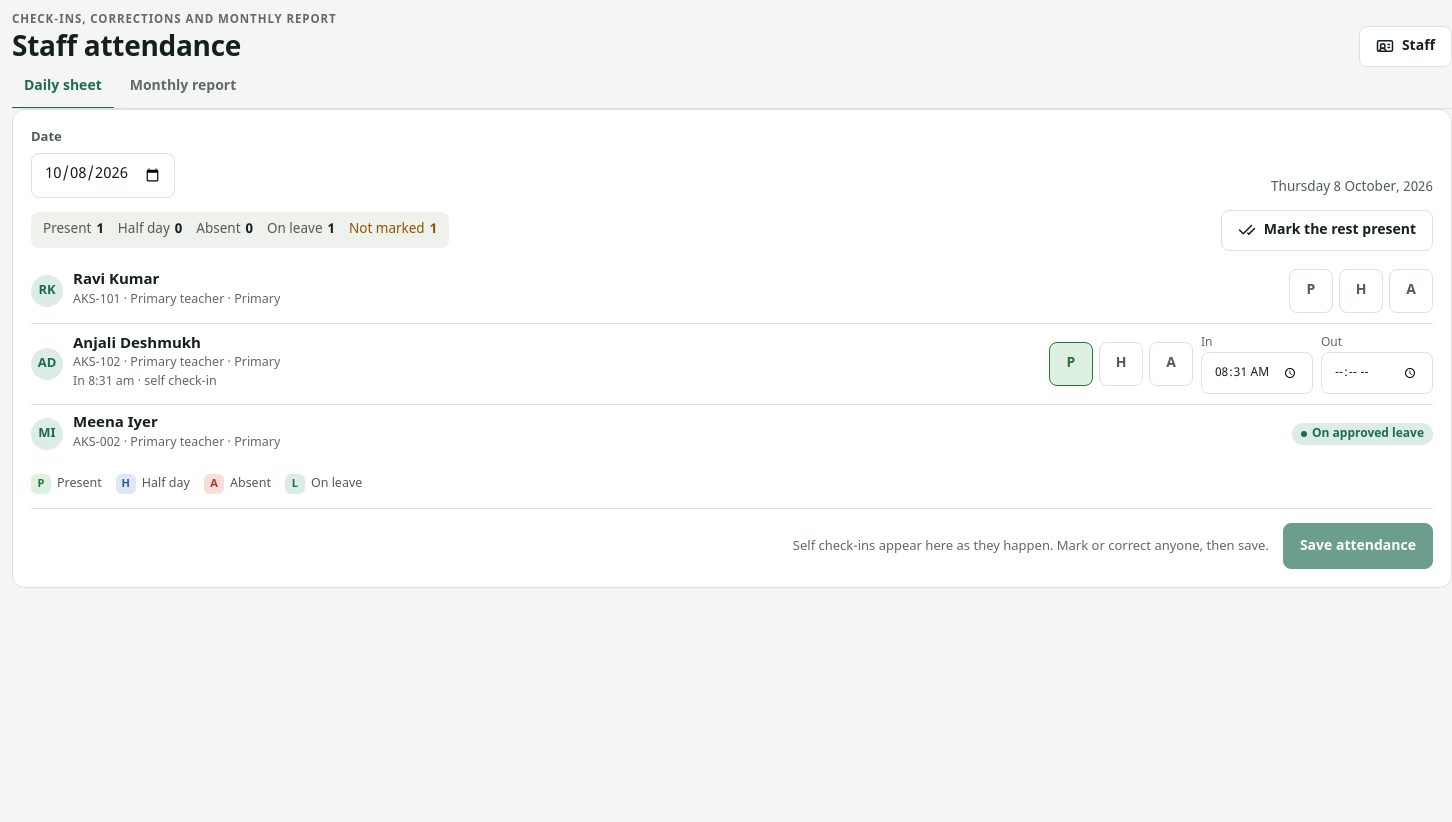
Test: daily sheet › refuses a check-out without a check-in before sending
The image size is (1452, 822).
Click the button named "Half day".
click(1361, 291)  # box [1339,269,1383,313]
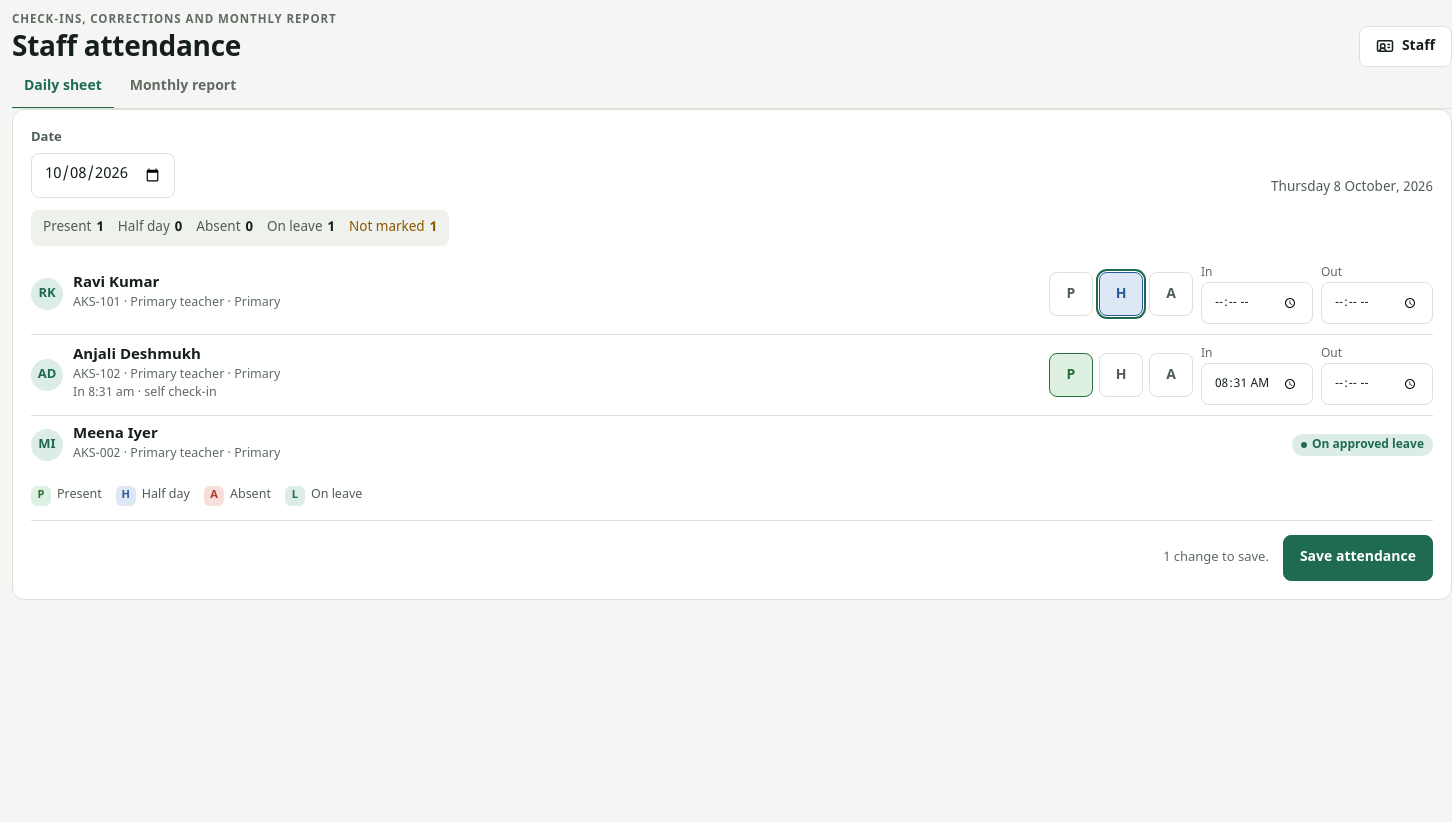
Type "13:00" into the time field named "Check-out time of Ravi Kumar".
click(1377, 303); type("13:00")  # box [1321,282,1433,324]
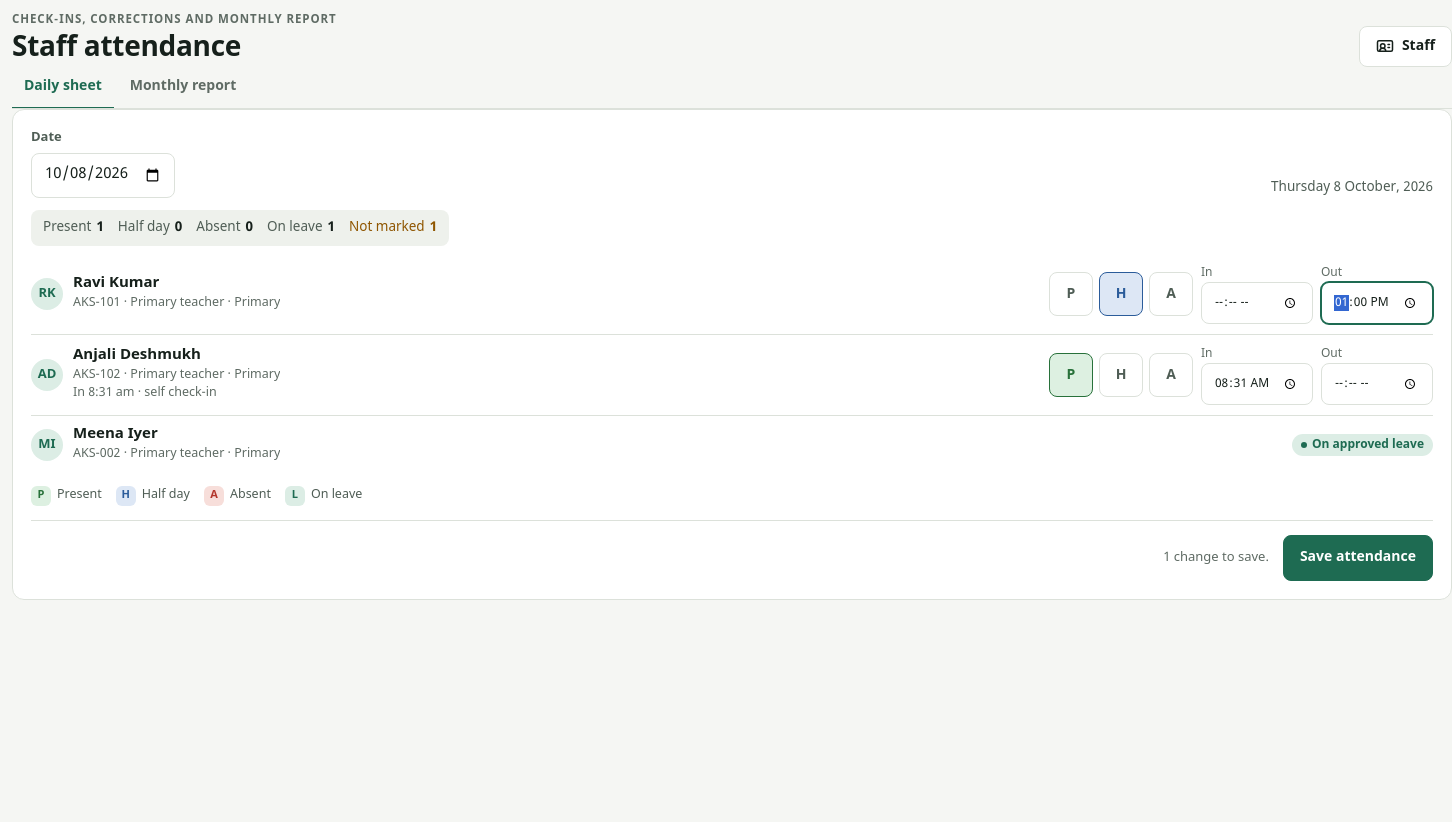
Click the button with test id "staff-sheet-save".
click(1358, 558)  # box [1283,535,1433,581]
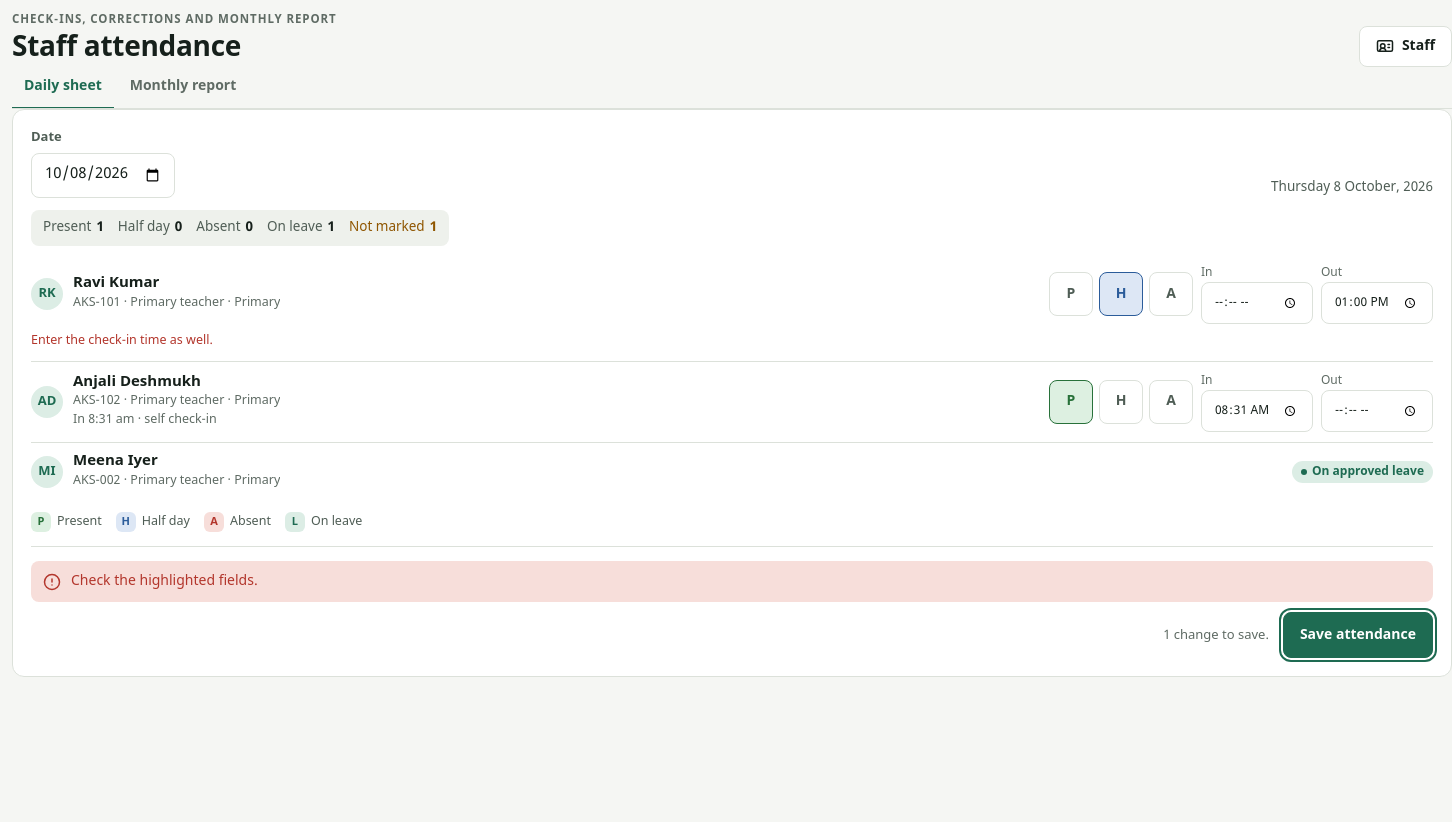
Expected: the message "Enter the check-in time as well." is shown, [31,333,213,349]
